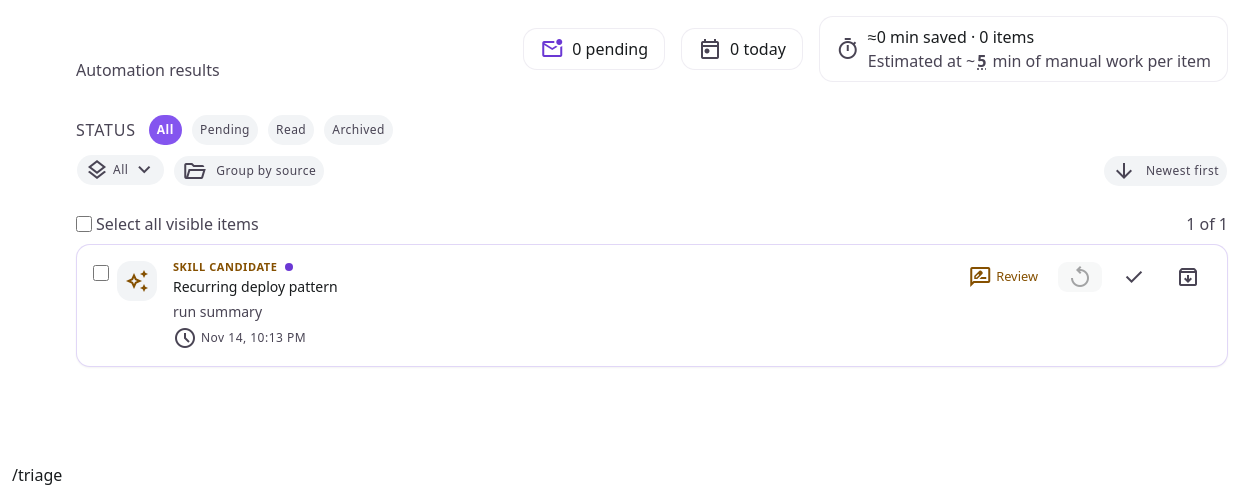
Test case: Triage — session sources, skill candidates and pending pinning (IA T6/X1) › shows「Review」on a skill_candidate card and jumps to /extensions/pending with the candidate id
The image size is (1245, 503).
Step 1. Click the button with aria-label "Review this skill candidate in Extensions → Pending" → (1003, 277), box [957,263,1049,291]
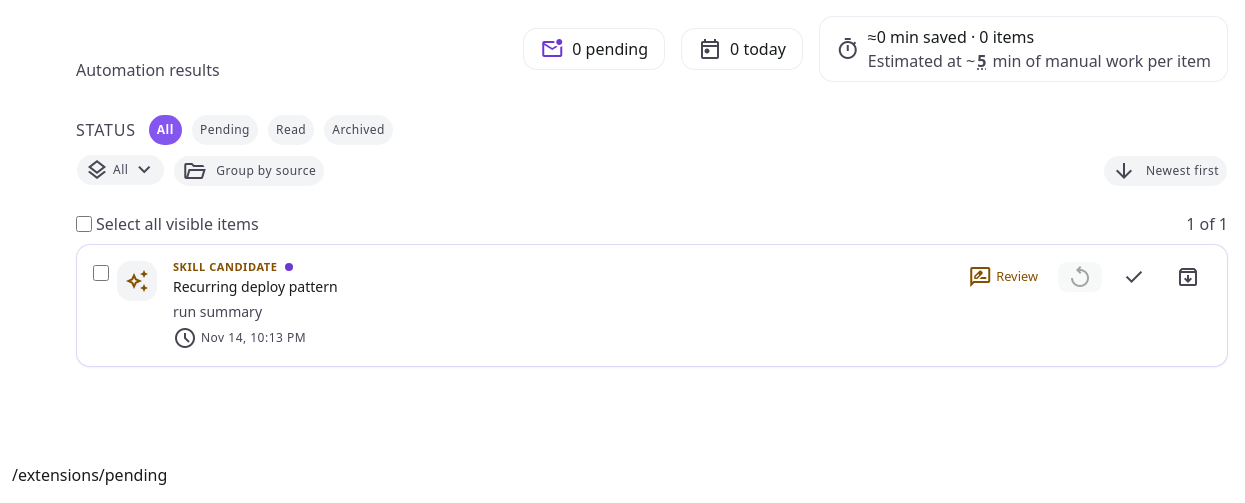
Now the text with test id "location" reads "/extensions/pending", box [12,464,167,486]
